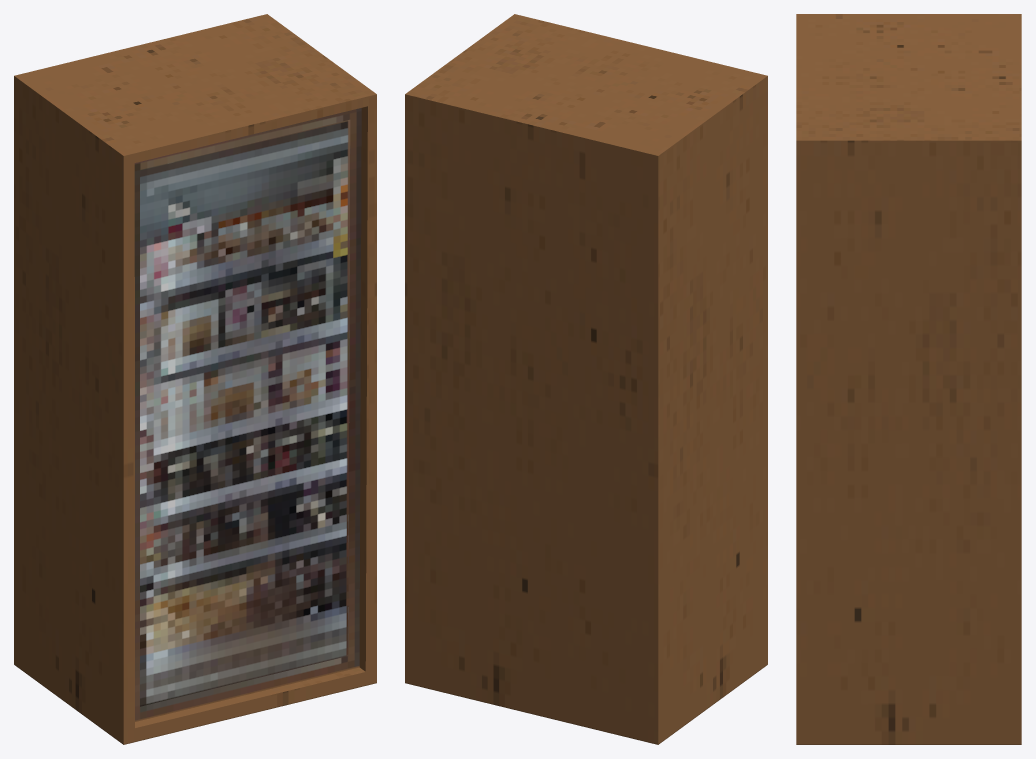
File: Refrigerador.003.fbx
3 renders of one model, left to right at view 1: azimuth 30°, elevation 25°; view 2: azimuth 150°, elevation 25°; view 3: azimuth 270°, elevation 25°, orthographic. The views are drawn at different scales.
Parts seen in each view (by area): view 1: Refrigerador_003; view 2: Refrigerador_003; view 3: Refrigerador_003.
Boxes of the visible parts, bbox=[...] form: Refrigerador_003: bbox=[14, 14, 376, 744]; Refrigerador_003: bbox=[405, 14, 767, 744]; Refrigerador_003: bbox=[796, 14, 1021, 744].
Bounding box in the file's own units: 90 × 200 × 67.5.
1 material, 1 textured.
